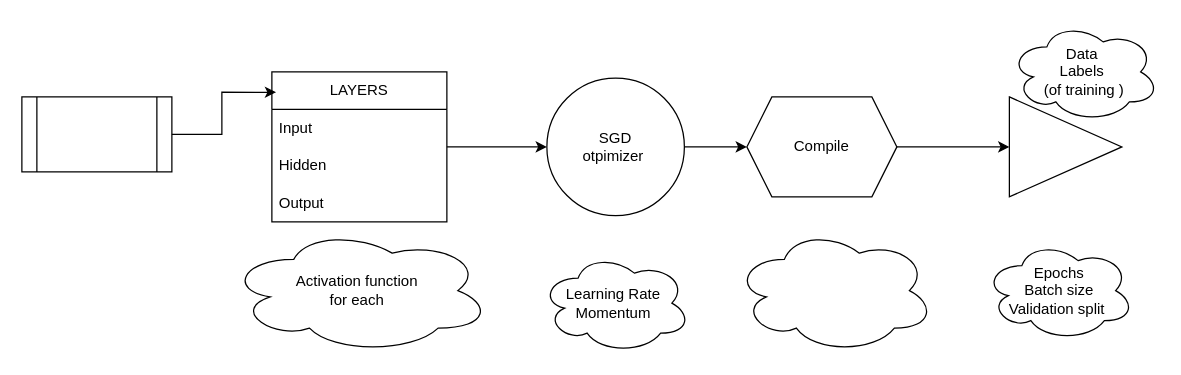
The diagram is 1181 pixels wide and 375 high, and some of its shapes have lost their labels. The box of each missing label's shape, as (x1, y1, x2, y2) in pixels:
Fit: (1008, 96, 1122, 197)
Previous optimizer Loss function Metrucs: (733, 227, 934, 353)
Sequential model: (21, 96, 172, 172)
